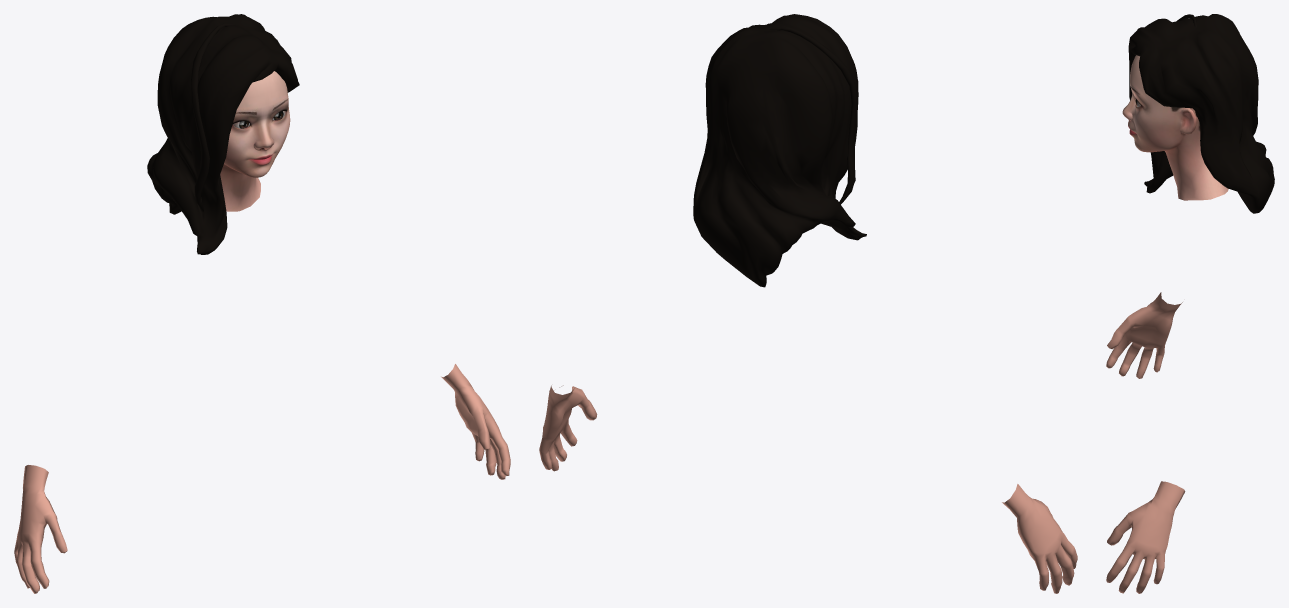
File: femaleheadIcon.glb
The picture shows the model from 3 angles, left to right: view 1: azimuth 30°, elevation 25°; view 2: azimuth 150°, elevation 25°; view 3: azimuth 270°, elevation 25°; orthographic projection. The views are drawn at different scales.
Visible parts, largest first — view 1: Wolf3D_Hair, Wolf3D_Body, Wolf3D_Head; view 2: Wolf3D_Hair, Wolf3D_Body; view 3: Wolf3D_Hair, Wolf3D_Body, Wolf3D_Head.
Boxes of the visible parts, x1,y1,x2,y2 form: Wolf3D_Hair: (147, 14, 299, 254); Wolf3D_Body: (14, 364, 510, 593); Wolf3D_Head: (220, 71, 290, 211); Wolf3D_Hair: (693, 14, 866, 287); Wolf3D_Body: (539, 385, 1077, 593); Wolf3D_Hair: (1128, 14, 1274, 213); Wolf3D_Body: (1106, 292, 1185, 593); Wolf3D_Head: (1122, 55, 1228, 200).
Size of the model in its own units: 0.9279 by 0.8995 by 0.2959.
5 materials, 5 textured.
